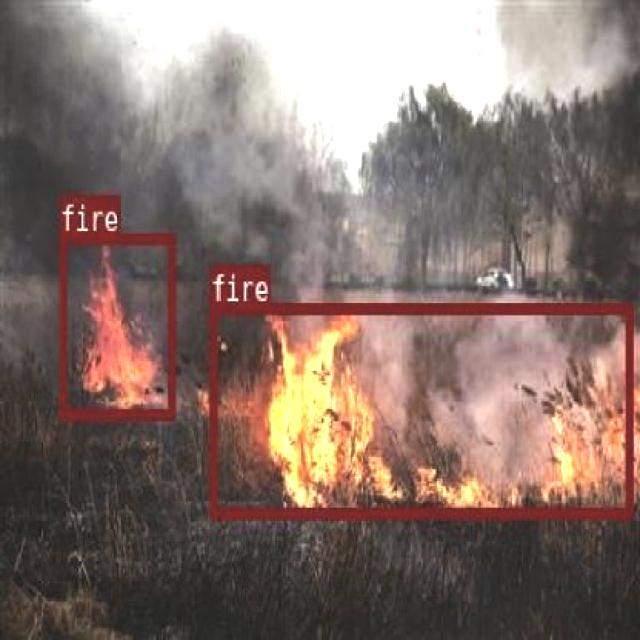fire: (208, 300, 632, 516), (58, 231, 174, 417)
